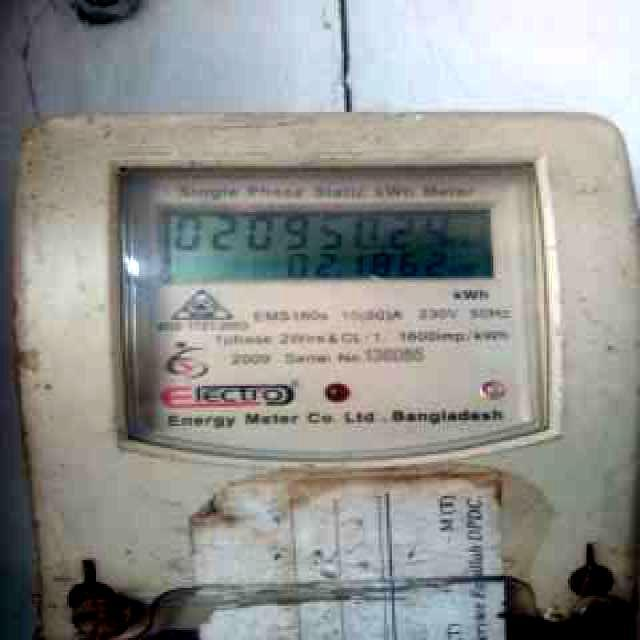LCD: (154, 201, 505, 287)
